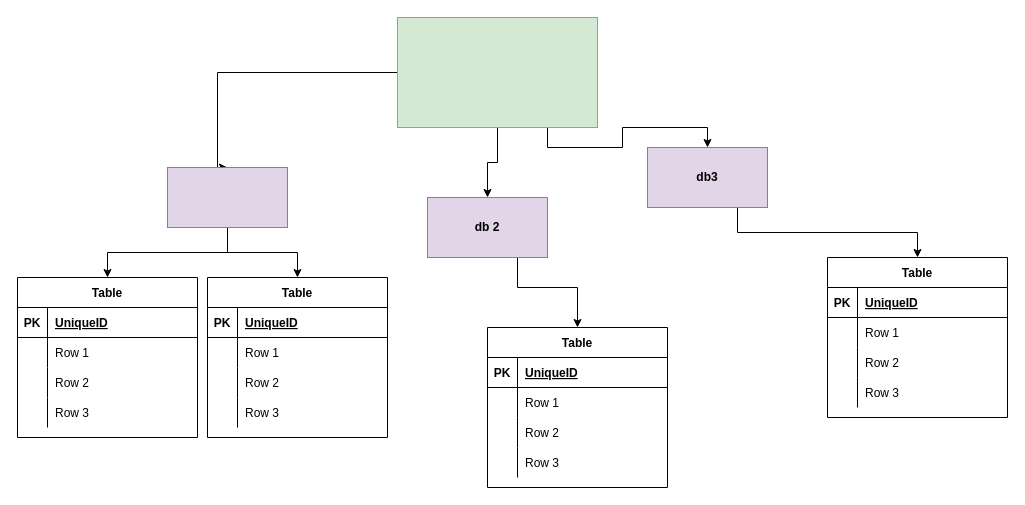
This 1025x505 diagram has some shape labels left out. Here are the shapes that lost their labels. From the top down, the centre of each, then its label:
At point (497, 72): "postgreSQL".
At point (227, 197): "db1".
